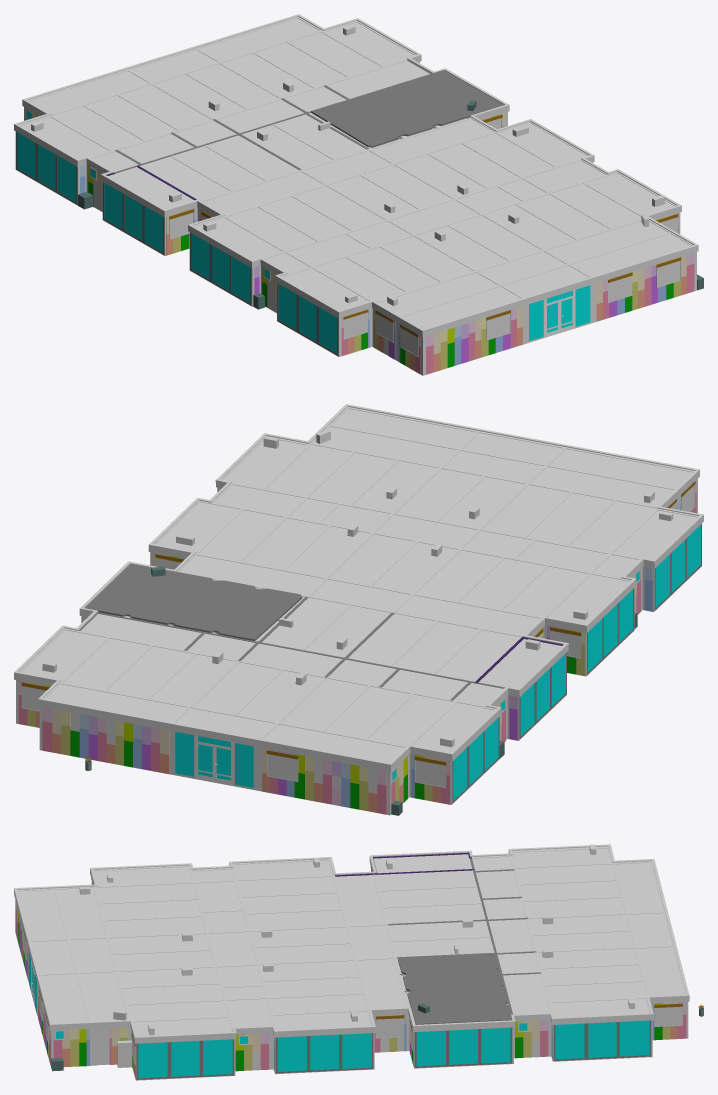
The picture shows the model from 3 angles, top to bottom: view 1: azimuth 30°, elevation 25°; view 2: azimuth 150°, elevation 25°; view 3: azimuth 270°, elevation 25°; orthographic projection. The views are drawn at different scales.
Visible parts, largest first — view 1: 1qVjC9$j17UB4YVnpF1fy$, 1LM45m0119gfQk9iad$iDw, 2umVHgGW95nAttWsOmtr00, 0pLhQjgWz3sQ1QCVJHSbLE, 14FX$Aplb7hRfaIHmW5b3r, 2h352UPZr5FxDdvl3umXK3, 2RBtmUSL5A_P3yolUyAo76, 2ccsvSR0vApBrurevHvUMd, 1ql1GWHPn1fefRaZdzGN7B, 0rSqpfl8LElhF_l5vvaZuo, 1zt1VQk$T1QuX31Yain7qp, 3jBndH_f182uEM_AEgCD_1 (+7 smaller); view 2: 1qVjC9$j17UB4YVnpF1fy$, 1LM45m0119gfQk9iad$iDw, 2umVHgGW95nAttWsOmtr00, 0pLhQjgWz3sQ1QCVJHSbLE, 0VMi2xszfD2e74NOTU6hOD, 3A3Kzpt313rBQL8hRQ4KYj, 0Emhd6clrEeh8a3dtoPwat, 2N7IhhL75AE9fuOKkMWRxw, 2SbcaqiVzCth4tepOSvSIG; view 3: 1qVjC9$j17UB4YVnpF1fy$, 1LM45m0119gfQk9iad$iDw, 2umVHgGW95nAttWsOmtr00, 0pLhQjgWz3sQ1QCVJHSbLE, 1_1nmsPMP9NgV4YkKfaJqn, 07z2zFu694p9q4l1SZAF7S, 29trNAwyj3XOOB6LsPTSdk, 1ohinn6sf3mwNnHiDhuD3z, 3_qK0hDyX0$xrNaHlTidcd, 1$5KV78r956OyH5CGSmMz9, 25oQmfwDP47ALG3B4dOJfY, 0SuCMbZOX4e9X_H1tlEAkc (+8 smaller).
Boxes of the visible parts, x1,y1,x2,y2 form: 1qVjC9$j17UB4YVnpF1fy$: (15, 16, 696, 375); 1LM45m0119gfQk9iad$iDw: (14, 14, 698, 337); 2umVHgGW95nAttWsOmtr00: (311, 70, 503, 147); 0pLhQjgWz3sQ1QCVJHSbLE: (114, 60, 500, 173); 14FX$Aplb7hRfaIHmW5b3r: (17, 132, 35, 178); 2h352UPZr5FxDdvl3umXK3: (144, 206, 162, 252); 2RBtmUSL5A_P3yolUyAo76: (191, 233, 209, 279); 2ccsvSR0vApBrurevHvUMd: (232, 257, 250, 302); 1ql1GWHPn1fefRaZdzGN7B: (319, 307, 337, 353); 0rSqpfl8LElhF_l5vvaZuo: (58, 156, 76, 201); 1zt1VQk$T1QuX31Yain7qp: (104, 183, 122, 228); 3jBndH_f182uEM_AEgCD_1: (278, 284, 296, 329); 1qVjC9$j17UB4YVnpF1fy$: (16, 407, 701, 815); 1LM45m0119gfQk9iad$iDw: (14, 404, 703, 771); 2umVHgGW95nAttWsOmtr00: (85, 563, 302, 640); 0pLhQjgWz3sQ1QCVJHSbLE: (79, 564, 504, 700); 0VMi2xszfD2e74NOTU6hOD: (175, 732, 193, 776); 3A3Kzpt313rBQL8hRQ4KYj: (235, 743, 253, 787); 0Emhd6clrEeh8a3dtoPwat: (195, 735, 233, 785); 2N7IhhL75AE9fuOKkMWRxw: (267, 754, 298, 781); 2SbcaqiVzCth4tepOSvSIG: (415, 760, 446, 788); 1qVjC9$j17UB4YVnpF1fy$: (15, 846, 688, 1080); 1LM45m0119gfQk9iad$iDw: (14, 844, 689, 1043); 2umVHgGW95nAttWsOmtr00: (398, 954, 512, 1024); 0pLhQjgWz3sQ1QCVJHSbLE: (387, 858, 536, 1014); 1_1nmsPMP9NgV4YkKfaJqn: (203, 1039, 232, 1075); 07z2zFu694p9q4l1SZAF7S: (620, 1020, 649, 1056); 29trNAwyj3XOOB6LsPTSdk: (555, 1023, 584, 1059); 1ohinn6sf3mwNnHiDhuD3z: (138, 1042, 167, 1078); 3_qK0hDyX0$xrNaHlTidcd: (342, 1033, 371, 1068); 1$5KV78r956OyH5CGSmMz9: (481, 1027, 510, 1063); 25oQmfwDP47ALG3B4dOJfY: (277, 1036, 306, 1071); 0SuCMbZOX4e9X_H1tlEAkc: (416, 1030, 445, 1066).
Bounding box in the file's own units: 27.81 × 3.32 × 41.93.
